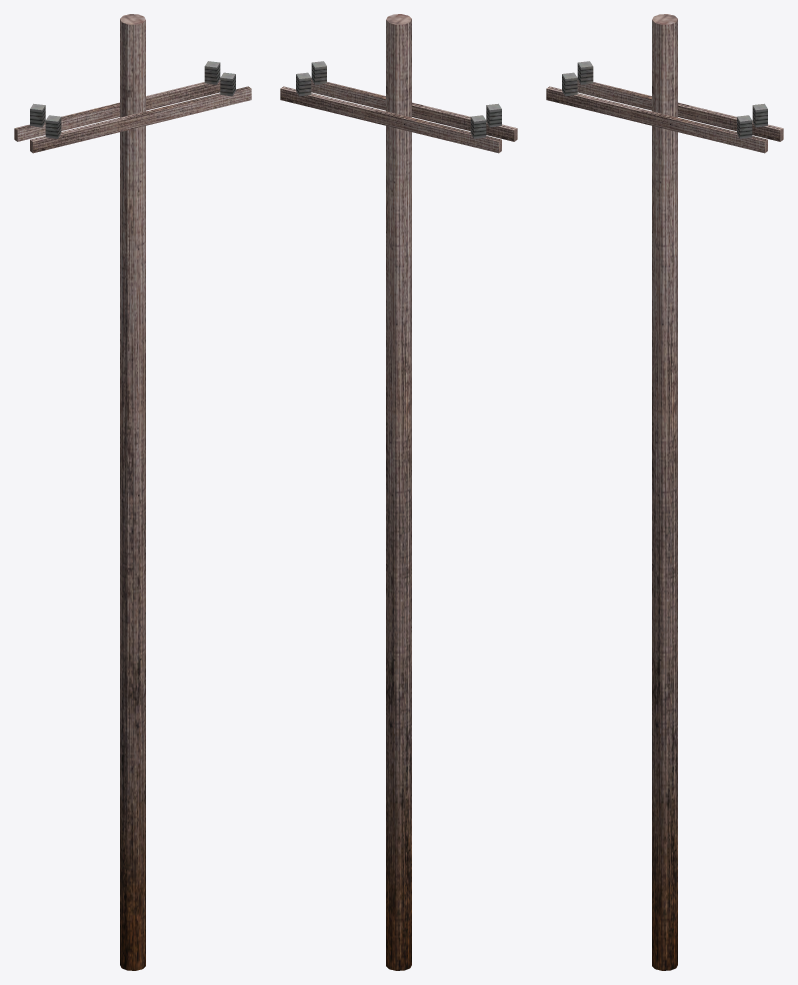
Rendered from tpole_nowires.fbx.
The picture shows the model from 3 angles, left to right: view 1: azimuth 30°, elevation 25°; view 2: azimuth 150°, elevation 25°; view 3: azimuth 330°, elevation 25°; orthographic projection.
Parts seen in each view (by area): view 1: mesh_0; view 2: mesh_0; view 3: mesh_0.
Part boxes in pixels (bbox=[...]): mesh_0: bbox=[14, 14, 251, 970]; mesh_0: bbox=[280, 14, 517, 970]; mesh_0: bbox=[546, 14, 783, 970].
Size of the model in its own units: 300 by 1242 by 58.58.
1 material, 1 textured.
